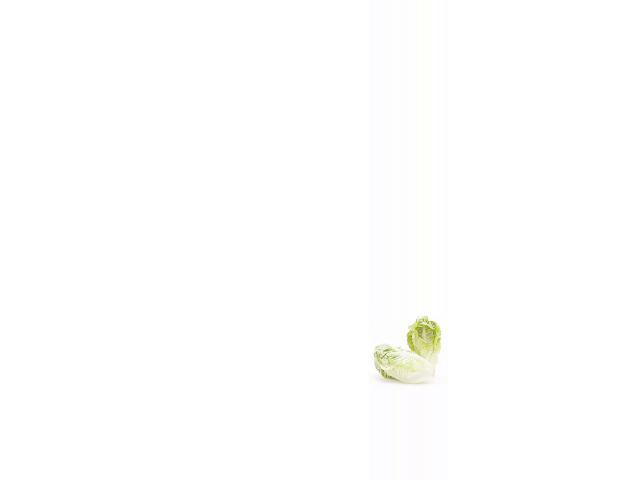lettuce: (369, 339, 439, 385)
